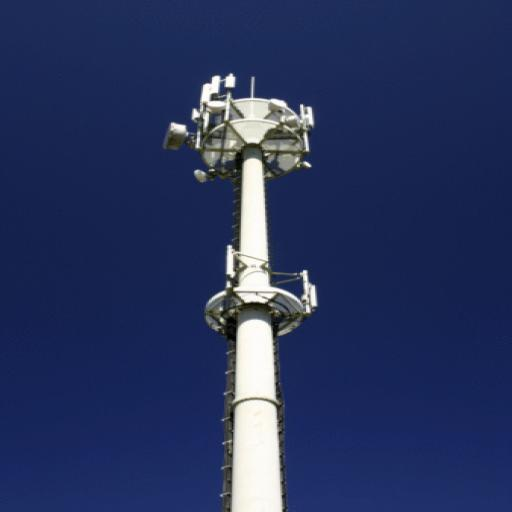monopole_tower: (159, 73, 318, 512)
